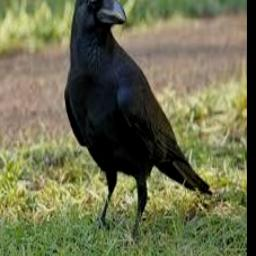Crow: (65, 0, 212, 239)
